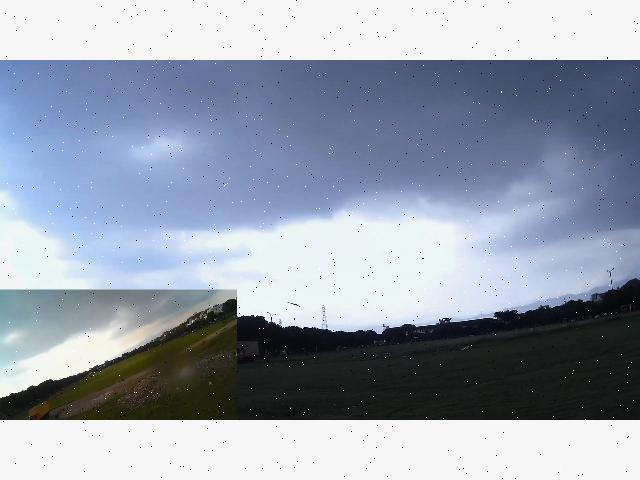Anti-Drone: (280, 297, 310, 317)
